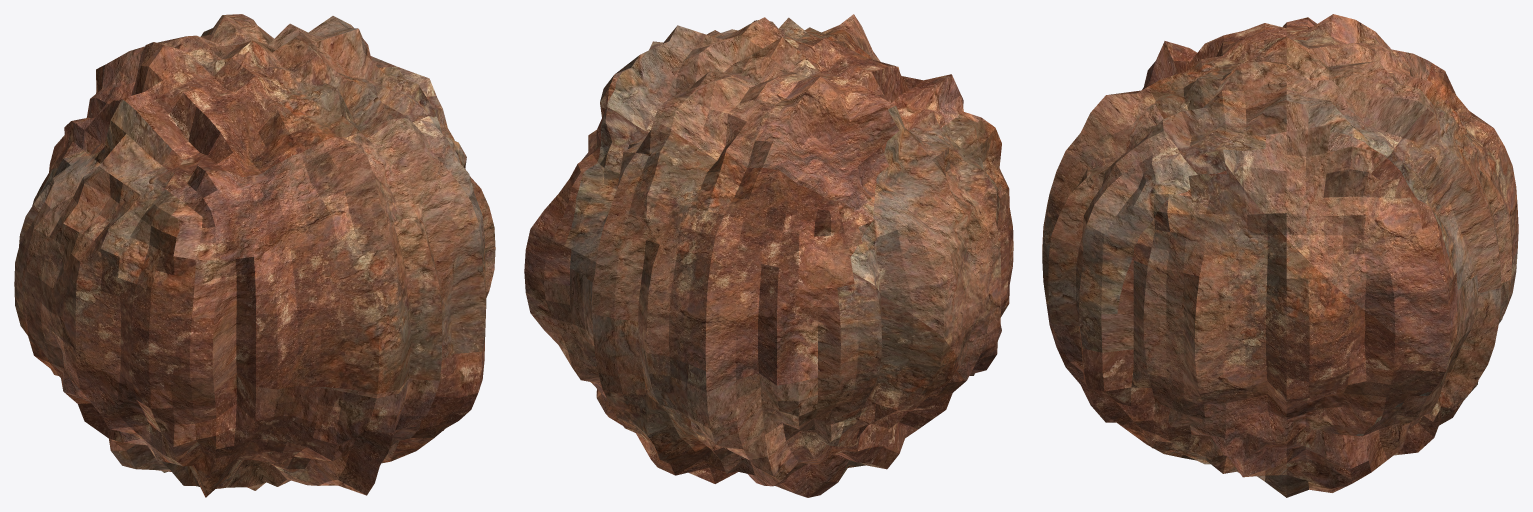
The model's file is asteroid128.obj.
3 views of the same model, side by side, from view 1: azimuth 30°, elevation 25°; view 2: azimuth 150°, elevation 25°; view 3: azimuth 270°, elevation 25° (orthographic). The views are drawn at different scales.
Visible parts, largest first — view 1: Cube_Cube.002; view 2: Cube_Cube.002; view 3: Cube_Cube.002.
Boxes of the visible parts, bbox=[...] form: Cube_Cube.002: bbox=[14, 14, 495, 497]; Cube_Cube.002: bbox=[524, 14, 1013, 497]; Cube_Cube.002: bbox=[1042, 14, 1518, 497].
Size of the model in its own units: 1.73 by 1.79 by 1.82.
